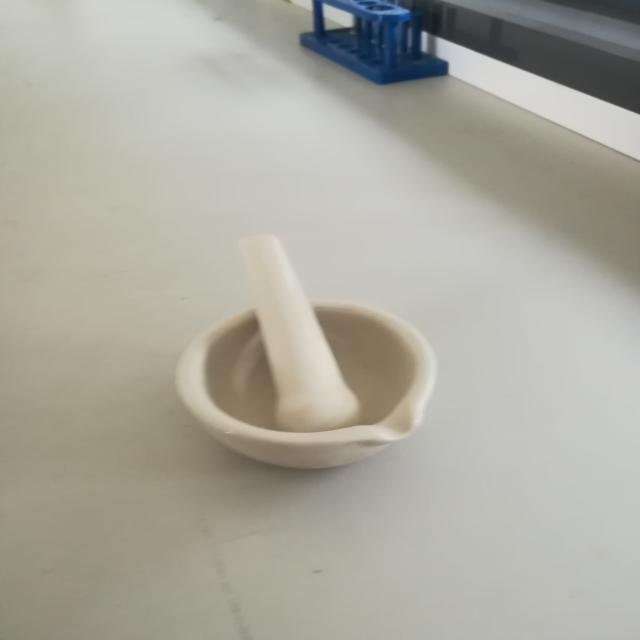Porcelain_Mortar Pestle: (136, 187, 478, 523)
